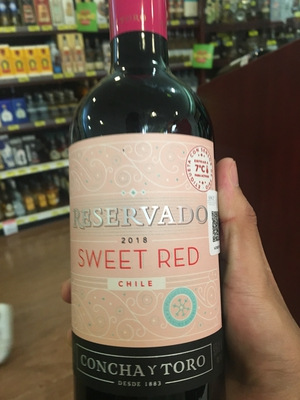reservado sweet red: (65, 2, 225, 400)
